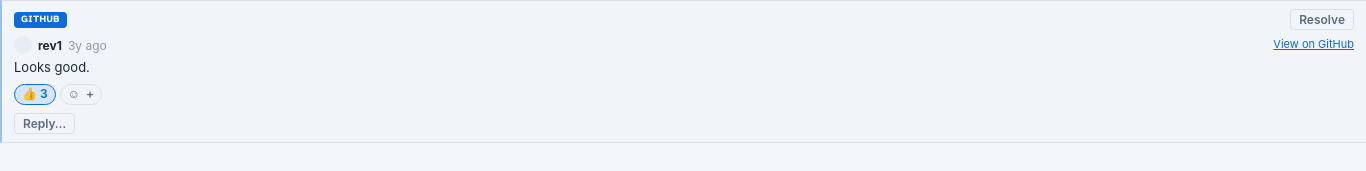
Test case: GithubThread › shows reactions, removes mine on click and adds one from the picker
This screenshot has width=1366, height=171.
What coordinates should you click on to do the following:
click the button "👍 3"
I would click on:
 (35, 94)
Its box is x1=14 y1=84 x2=56 y2=105.
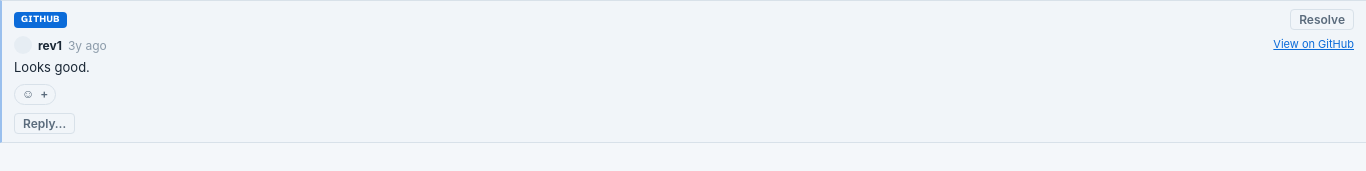
Expected: the button "👍 3" is gone
What coordinates should you click on to do the following:
click the button named "Add reaction"
I would click on:
 (35, 94)
Its box is x1=14 y1=84 x2=56 y2=105.
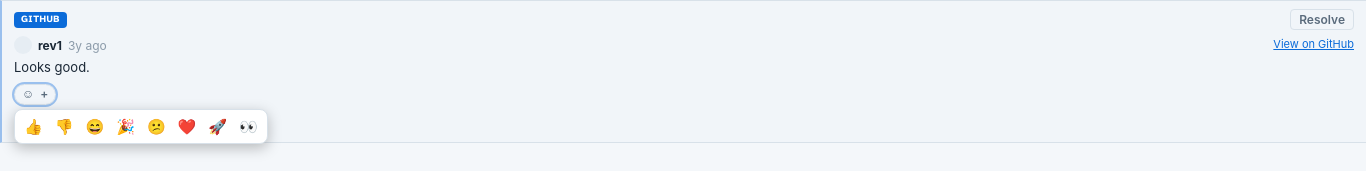
What coordinates should you click on to do the following:
click the button titled "rocket"
I would click on:
 (218, 127)
Its box is x1=203 y1=114 x2=232 y2=140.
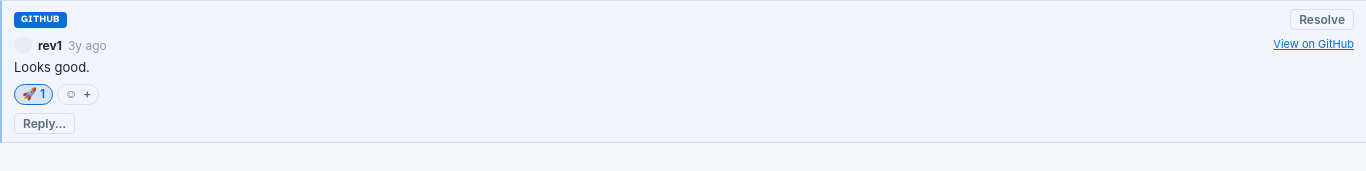
Expected: the button "🚀 1" is shown, x1=14 y1=84 x2=53 y2=105
